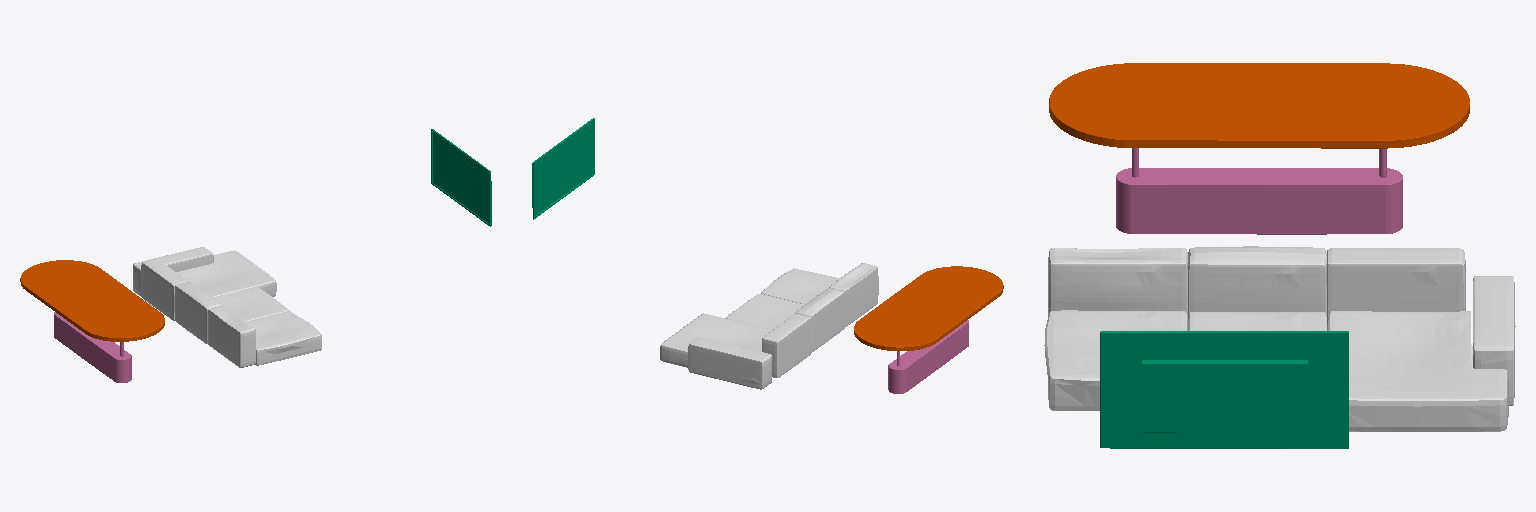
URDF robot description (livingroom):
<?xml version="0.0" ?>
<robot name="livingroom">
  <link name="wall1">
    <contact>
      <lateral_friction value="1.0"/>
      <rolling_friction value="0.0"/>
      <contact_cfm value="0.0"/>
      <contact_erp value="1.0"/>
    </contact>
    <inertial>
      <origin rpy="1.57 0 0" xyz="0.0 0.0 0.0"/>
       <mass value=".1"/>
       <inertia ixx="1" ixy="0" ixz="0" iyy="1" iyz="0" izz="1"/>
    </inertial>
    <visual>
      <origin rpy="1.57 0 0" xyz="0 0 0.0"/>
      <geometry>
        <mesh filename="meshes/living/wall1.obj" />
      </geometry>

    </visual>
    <collision>
      <origin rpy="1.57 0 0" xyz="0 0 0.0"/>
      <geometry>
	 	<mesh filename="meshes/living/wall1.obj" />
      </geometry>
    </collision>
  </link>

  <joint name="wall1" type="fixed">
    <origin rpy="0 0 0" xyz=" 0 0 0"/>
    <parent link="wall1"/>
    <child link="wall2"/>
  </joint>
    <link name="wall2">
    <contact>
      <lateral_friction value="1.0"/>
      <rolling_friction value="0.0"/>
      <contact_cfm value="0.0"/>
      <contact_erp value="1.0"/>
    </contact>
    <inertial>
      <origin rpy="1.57 0 0" xyz="0.0 0.0 0."/>
       <mass value=".1"/>
       <inertia ixx="1" ixy="0" ixz="0" iyy="1" iyz="0" izz="1"/>
    </inertial>
    <visual>
      <origin rpy="1.57 0 0" xyz="0 0 0.0"/>
      <geometry>
        <mesh filename="meshes/living/wall2.obj" />
      </geometry>

    </visual>
    <collision>
      <origin rpy="1.57 0 0" xyz="0 0 0.0"/>
      <geometry>
	 	<mesh filename="meshes/living/wall2.obj" />
      </geometry>
    </collision>
  </link>



    <joint name="tv" type="fixed">
    <origin rpy="0 0 0" xyz=" 0 0 0"/>
    <parent link="wall1"/>
    <child link="tv"/>
  </joint>
    <link name="tv">
    <contact>
      <lateral_friction value="1.0"/>
      <rolling_friction value="0.0"/>
      <contact_cfm value="0.0"/>
      <contact_erp value="1.0"/>
    </contact>
    <inertial>
      <origin rpy="1.57 0 0" xyz="0.0 0.0 0."/>
       <mass value=".1"/>
       <inertia ixx="1" ixy="0" ixz="0" iyy="1" iyz="0" izz="1"/>
    </inertial>
    <visual>
      <origin rpy="1.57 0 0" xyz="0 0 0.0"/>
      <geometry>
        <mesh filename="meshes/living/tv.obj" />
      </geometry>

    </visual>
    <collision>
      <origin rpy="1.57 0 0" xyz="0 0 0.0"/>
      <geometry>
	 	<mesh filename="meshes/living/tv.obj" />
      </geometry>
    </collision>
  </link>


    <joint name="table2" type="fixed">
    <origin rpy="0 0 0" xyz=" 0 -0.4 -0.1"/>
    <parent link="wall1"/>
    <child link="table2"/>
  </joint>
    <link name="table2">
    <contact>
      <lateral_friction value="1.0"/>
      <rolling_friction value="0.0"/>
      <contact_cfm value="0.0"/>
      <contact_erp value="1.0"/>
    </contact>
    <inertial>
      <origin rpy="1.57 0 0" xyz="0.0 0.0 0."/>
       <mass value=".1"/>
       <inertia ixx="1" ixy="0" ixz="0" iyy="1" iyz="0" izz="1"/>
    </inertial>
    <visual>
      <origin rpy="1.57 0 0" xyz="0 0 0.0"/>
      <geometry>
        <mesh filename="meshes/living/table2.obj" />
      </geometry>

    </visual>
    <collision>
      <origin rpy="1.57 0 0" xyz="0 0 0.0"/>
      <geometry>
	 	<mesh filename="meshes/living/table2.obj" />
      </geometry>
    </collision>
  </link>



    <joint name="table1" type="fixed">
    <origin rpy="0 0 0" xyz=" 0 -0.4 0"/>
    <parent link="wall1"/>
    <child link="table1"/>
  </joint>
    <link name="table1">
    <contact>
      <lateral_friction value="1.0"/>
      <rolling_friction value="0.0"/>
      <contact_cfm value="0.0"/>
      <contact_erp value="1.0"/>
    </contact>
    <inertial>
      <origin rpy="1.57 0 0" xyz="0.0 -0.0 0."/>
       <mass value=".1"/>
       <inertia ixx="1" ixy="0" ixz="0" iyy="1" iyz="0" izz="1"/>
    </inertial>
    <visual>
      <origin rpy="1.57 0 0" xyz="0 0 0.0"/>
      <geometry>
        <mesh filename="meshes/living/table1.obj" />
      </geometry>

    </visual>
    <collision>
      <origin rpy="1.57 0 0" xyz="0 0 0.0"/>
      <geometry>
	 	<mesh filename="meshes/living/table1.obj" />
      </geometry>
    </collision>
  </link>


      <joint name="table4" type="fixed">
    <origin rpy="0 0 0" xyz=" 0 0 0"/>
    <parent link="wall1"/>
    <child link="table4"/>
  </joint>
    <link name="table4">
    <contact>
      <lateral_friction value="1.0"/>
      <rolling_friction value="0.0"/>
      <contact_cfm value="0.0"/>
      <contact_erp value="1.0"/>
    </contact>
    <inertial>
      <origin rpy="1.57 0 0" xyz="0.0 0.0 0."/>
       <mass value=".1"/>
       <inertia ixx="1" ixy="0" ixz="0" iyy="1" iyz="0" izz="1"/>
    </inertial>
    <visual>
      <origin rpy="1.57 0 0" xyz="0 0 0.0"/>
      <geometry>
        <mesh filename="meshes/living/table4.obj" />
      </geometry>

    </visual>
    <collision>
      <origin rpy="1.57 0 0" xyz="0 0 0.0"/>
      <geometry>
	 	<mesh filename="meshes/living/table4.obj" />
      </geometry>
    </collision>
  </link>

<joint name="table3" type="fixed">
    <origin rpy="0 0 0" xyz=" 0 0 0"/>
    <parent link="wall1"/>
    <child link="table3"/>
  </joint>
    <link name="table3">
    <contact>
      <lateral_friction value="1.0"/>
      <rolling_friction value="0.0"/>
      <contact_cfm value="0.0"/>
      <contact_erp value="1.0"/>
    </contact>
    <inertial>
      <origin rpy="1.57 0 0" xyz="0.0 0.0 0."/>
       <mass value=".1"/>
       <inertia ixx="1" ixy="0" ixz="0" iyy="1" iyz="0" izz="1"/>
    </inertial>
    <visual>
      <origin rpy="1.57 0 0" xyz="0 0 0.0"/>
      <geometry>
        <mesh filename="meshes/living/table3.obj" />
      </geometry>

    </visual>
    <collision>
      <origin rpy="1.57 0 0" xyz="0 0 0.0"/>
      <geometry>
	 	<mesh filename="meshes/living/table3.obj" />
      </geometry>
    </collision>
  </link>




    <joint name="sofa" type="fixed">
    <origin rpy="0 0 0" xyz=" 0 -0.4 -0.2"/>
    <parent link="wall1"/>
    <child link="sofa"/>
  </joint>
    <link name="sofa">
    <contact>
      <lateral_friction value="1.0"/>
      <rolling_friction value="0.0"/>
      <contact_cfm value="0.0"/>
      <contact_erp value="1.0"/>
    </contact>
    <inertial>
      <origin rpy="1.57 0 0" xyz="0.0 0.0 0."/>
       <mass value=".1"/>
       <inertia ixx="1" ixy="0" ixz="0" iyy="1" iyz="0" izz="1"/>
    </inertial>
    <visual>
      <origin rpy="1.57 0 0" xyz="0 0 0.0"/>
      <geometry>
        <mesh filename="meshes/living/sofa.obj" />
      </geometry>
      <material name="sofa">
        <color rgba="0.9 0.9 0.9 1"/>
      </material>
    </visual>
    <collision>
      <origin rpy="1.57 0 0" xyz="0 0 0.0"/>
      <geometry>
	 	<mesh filename="meshes/living/sofa.obj" />
      </geometry>
    </collision>
  </link>







</robot>

--- Facts derived from the render (not from the file) ---
Views: 3 orthographic renders of the robot side by side, from view 1: azimuth 30°, elevation 25°; view 2: azimuth 150°, elevation 25°; view 3: azimuth 270°, elevation 25°.
Robot: livingroom — 8 links, 7 joints (7 fixed); root link wall1; default pose: every joint at zero.
Visible links, largest first — view 1: sofa, table4, tv, table3; view 2: sofa, table4, tv, table3; view 3: sofa, table4, tv, table3.
Boxes of the visible links, x1,y1,x2,y2 form: sofa: (133,247,321,367); table4: (20,260,164,341); tv: (431,129,491,226); table3: (54,312,131,382); sofa: (660,263,878,389); table4: (854,266,1003,350); tv: (532,118,594,219); table3: (888,320,968,393); sofa: (1044,246,1515,431); table4: (1049,63,1469,148); tv: (1100,331,1348,448); table3: (1116,148,1402,234).
Bounding box of the posed robot: 5.41 × 2.57 × 1.63 m (x, y, z).
Meshes: 8 distinct files referenced, 4 mesh visuals loaded (4 OBJ); not drawn: 4 (reference not matched to a file when rendering).